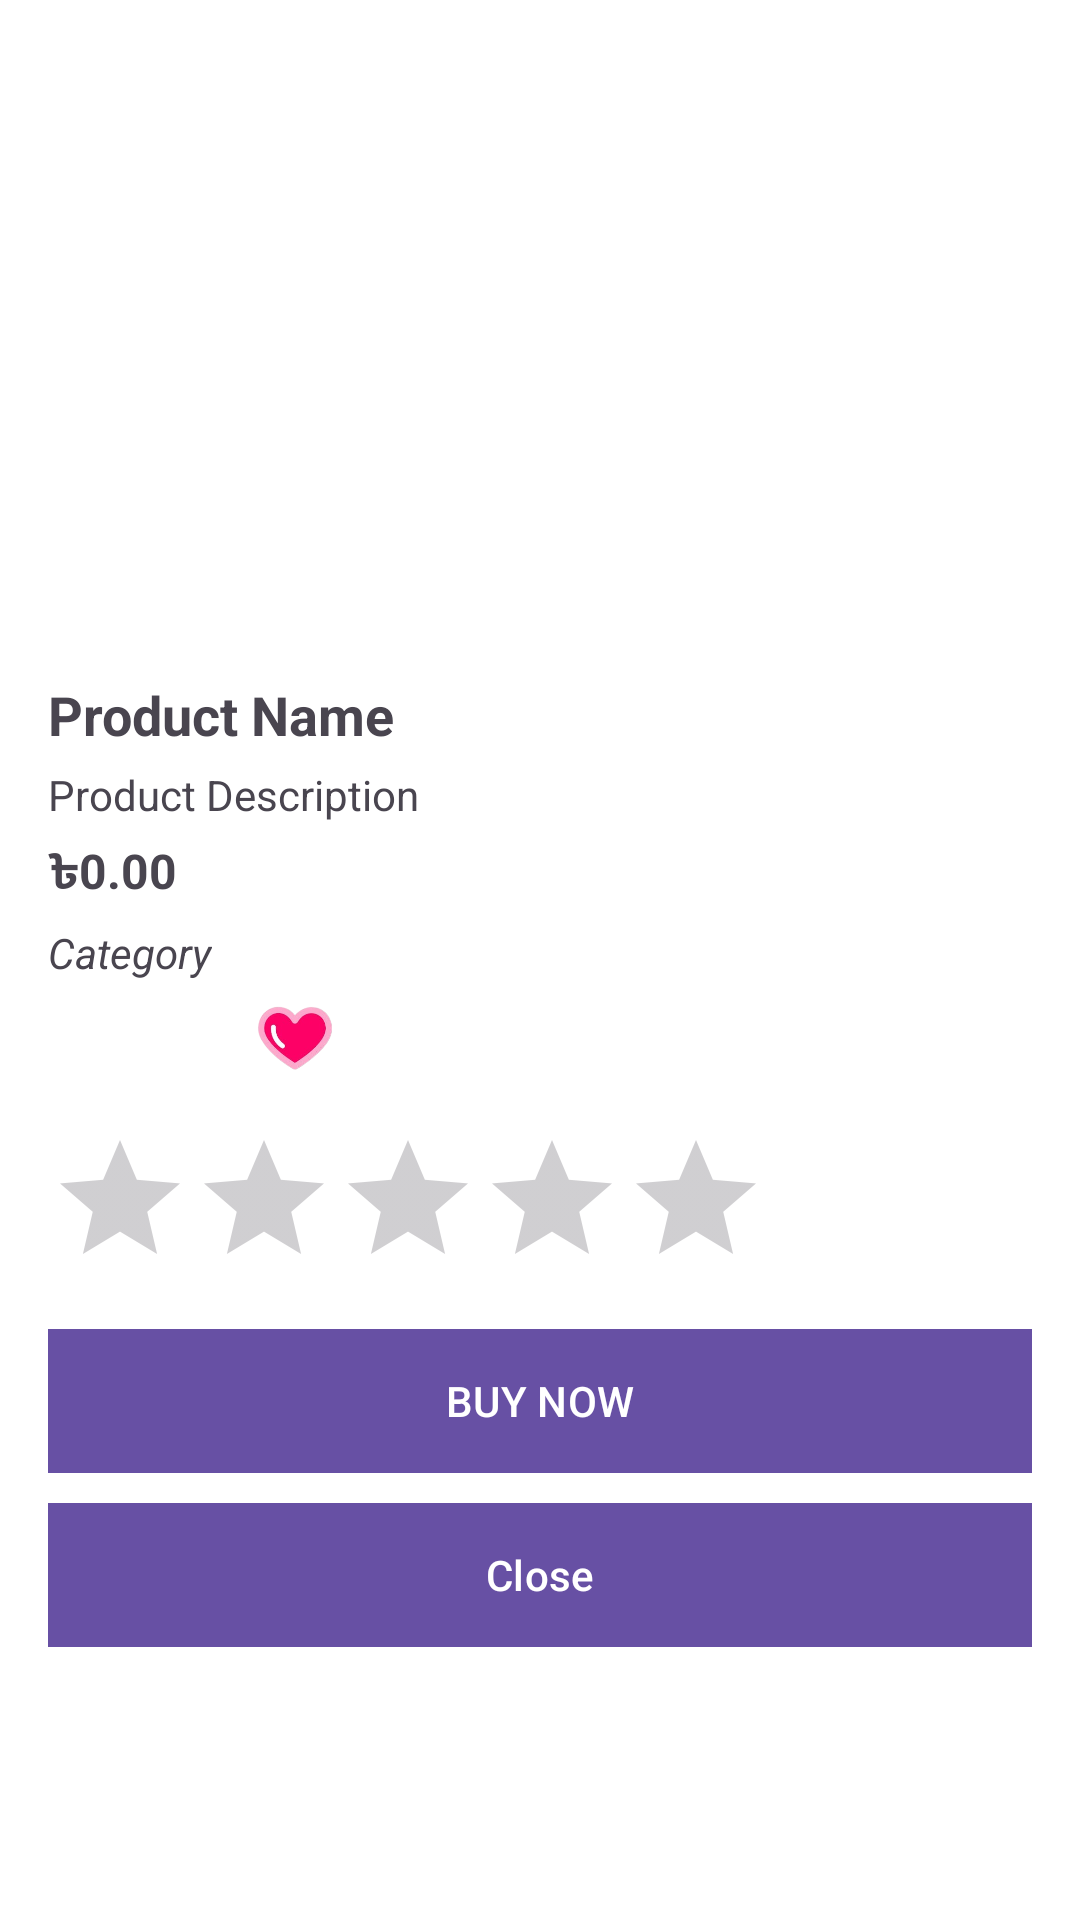

Icon bounding boxes for this 1080px x 1920px phone screenshot, format [x1, y1, x2, y2]:
favourite: [258, 1007, 332, 1070]
